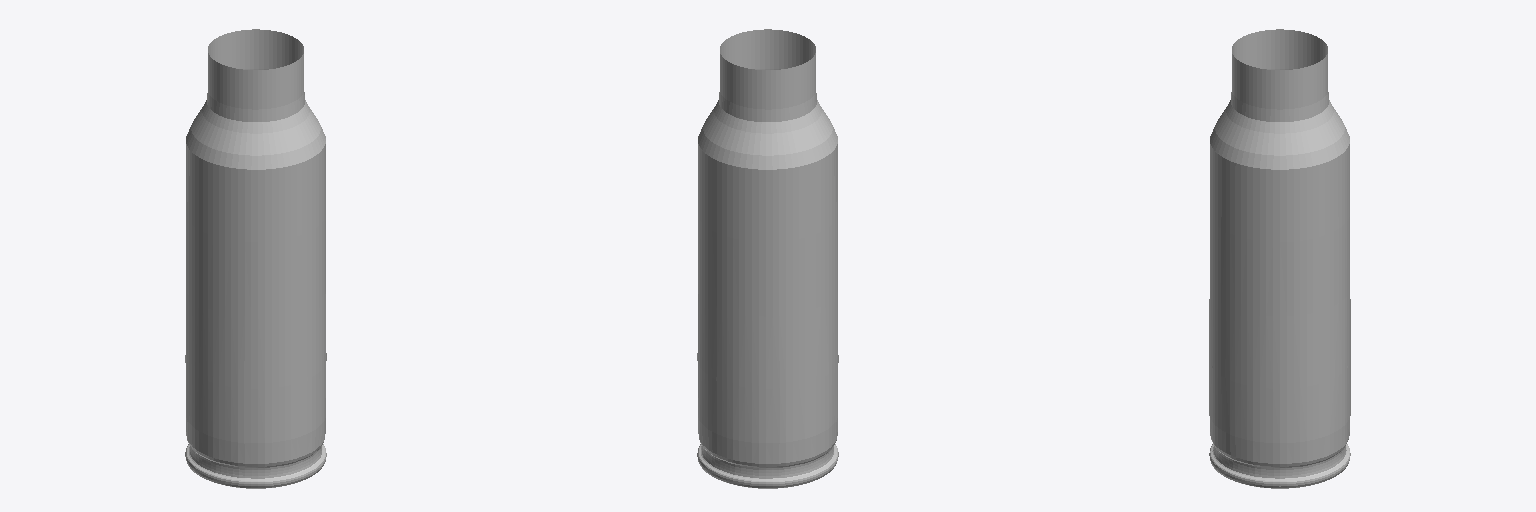
Rendered from Bullet_Cylinder.obj.
3 renders of one model, left to right at view 1: azimuth 30°, elevation 25°; view 2: azimuth 150°, elevation 25°; view 3: azimuth 270°, elevation 25°, orthographic.
Parts seen in each view (by area): view 1: Bullet_Cylinder; view 2: Bullet_Cylinder; view 3: Bullet_Cylinder.
Boxes of the visible parts, x1,y1,x2,y2 form: Bullet_Cylinder: [185, 29, 326, 488]; Bullet_Cylinder: [697, 29, 838, 488]; Bullet_Cylinder: [1209, 29, 1350, 488].
Size of the model in its own units: 0.5885 by 1.89 by 0.5885.